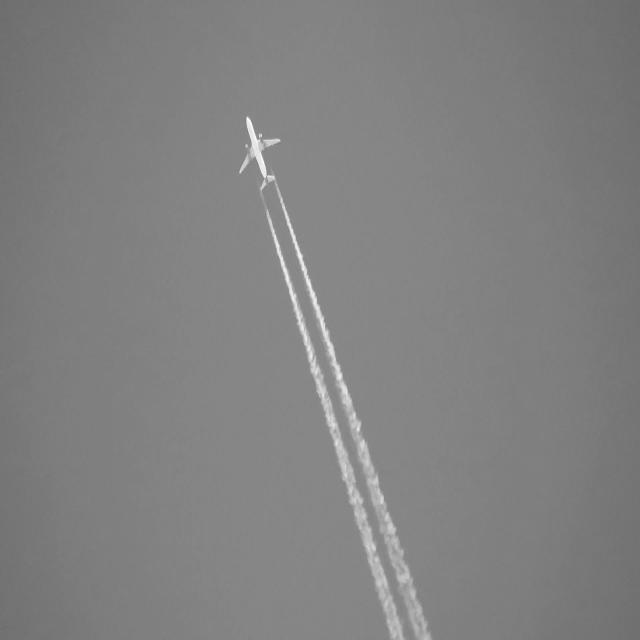aeroplane: (237, 112, 280, 202)
